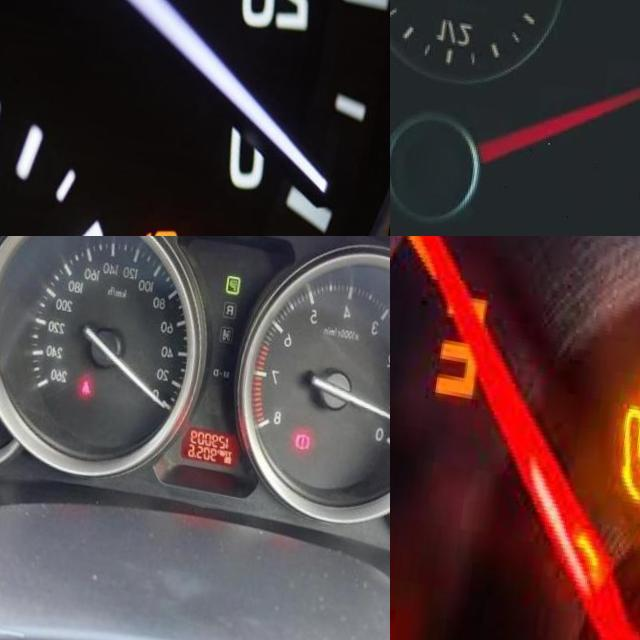Seat Belt: (90, 371, 103, 390)
